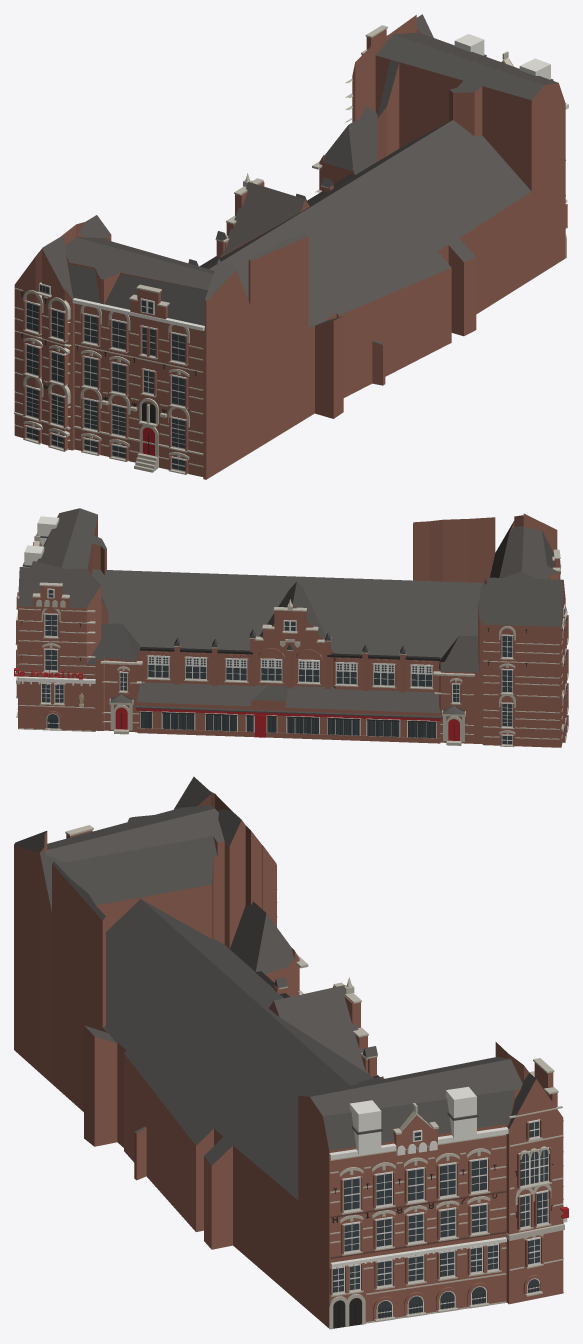
The model's file is krakeling-passeerdersstraat.glb.
3 renders of one model, top to bottom at view 1: azimuth 30°, elevation 25°; view 2: azimuth 150°, elevation 25°; view 3: azimuth 270°, elevation 25°, orthographic. The views are drawn at different scales.
Parts seen in each view (by area): view 1: krakeling-passeerdersstraat; view 2: krakeling-passeerdersstraat; view 3: krakeling-passeerdersstraat.
Boxes of the visible parts, x1=… form: krakeling-passeerdersstraat: x1=14, y1=14, x2=568, y2=479; krakeling-passeerdersstraat: x1=14, y1=508, x2=568, y2=747; krakeling-passeerdersstraat: x1=14, y1=776, x2=568, y2=1329.
Size of the model in its own units: 55.97 by 18.18 by 38.96.
